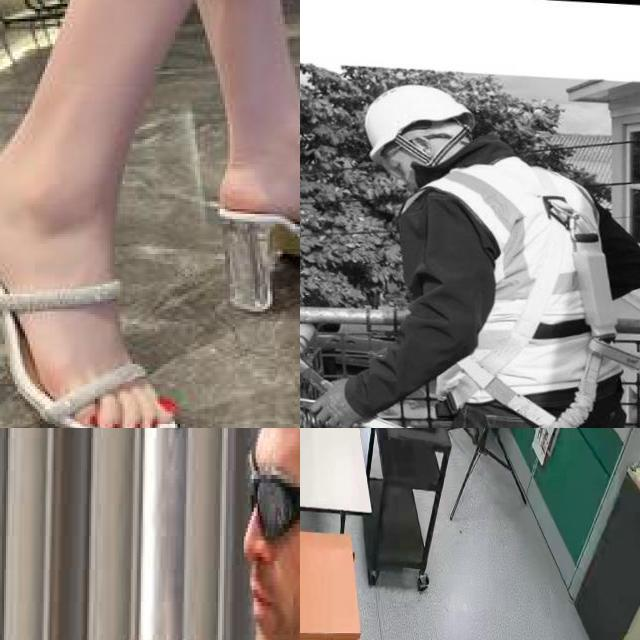Harness: (532, 175, 640, 428)
Sandals: (0, 129, 187, 428), (214, 100, 300, 319)
